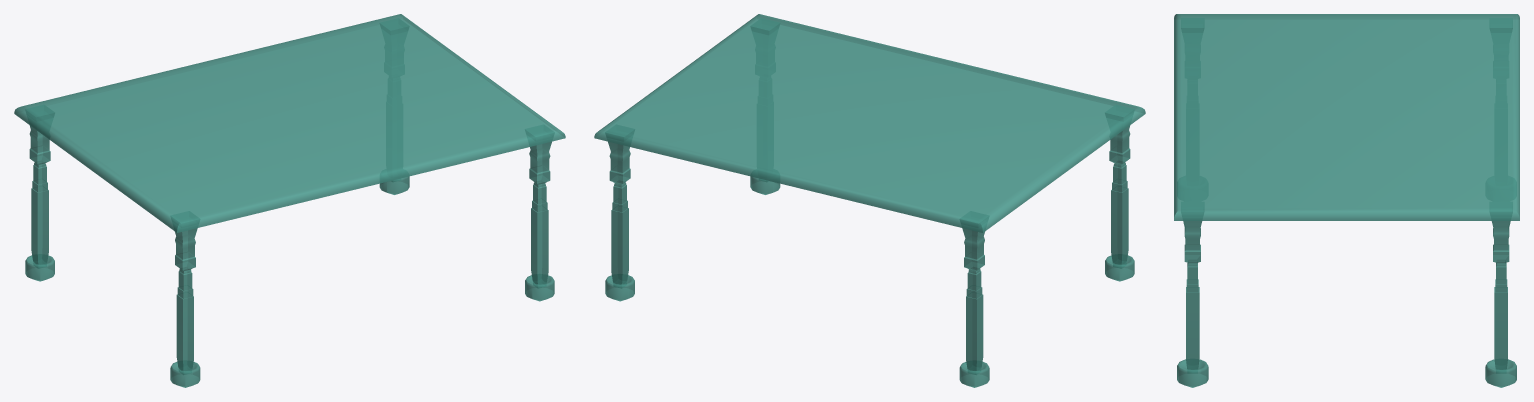
Rendered from table4.fbx.
3 renders of one model, left to right at view 1: azimuth 30°, elevation 25°; view 2: azimuth 150°, elevation 25°; view 3: azimuth 270°, elevation 25°, orthographic. The views are drawn at different scales.
Visible parts, largest first — view 1: Table4; view 2: Table4; view 3: Table4.
Part boxes in pixels (<box>): Table4: <box>14,14,565,387</box>; Table4: <box>594,14,1145,387</box>; Table4: <box>1174,14,1519,387</box>.
Size of the model in its own units: 177 by 75.55 by 128.
